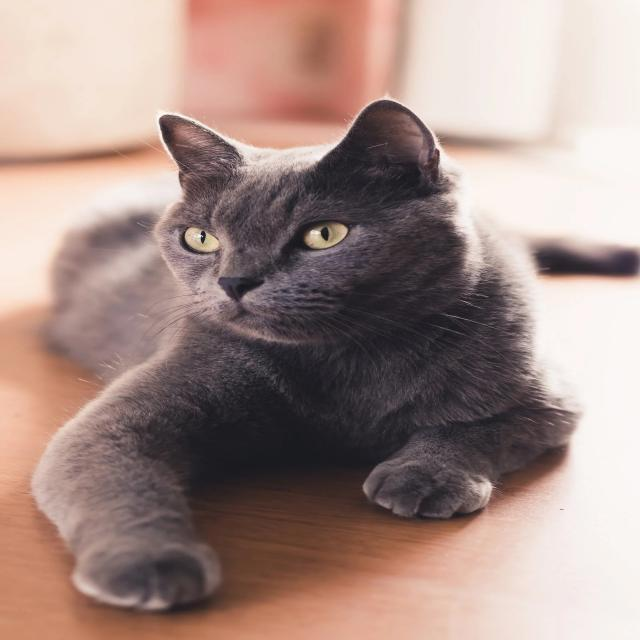cat: (26, 96, 586, 616)
